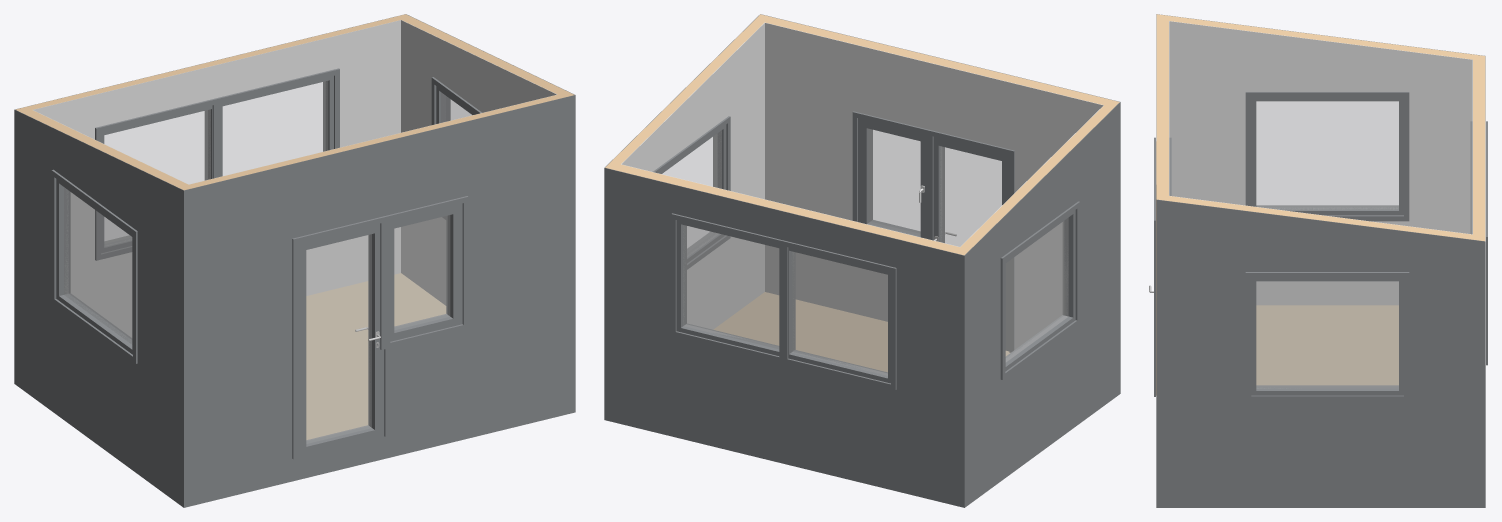
Rendered from andrius@garai.fbx.
The picture shows the model from 3 angles, left to right: view 1: azimuth 30°, elevation 25°; view 2: azimuth 150°, elevation 25°; view 3: azimuth 270°, elevation 25°; orthographic projection. The views are drawn at different scales.
Visible parts, largest first — view 1: IfcWall/Part:2319977, IfcWall/Part:2368366, IfcWall/Part:2397154, IfcDoor/Durys išorinės:900x2100x120 (kairinės):2439432, IfcWindow/Langai (Akrusta):1400x1200x120:2636080, IfcWindow/Langai (Akrusta):800x1200x120 (kairinis):2512981, IfcWall/Part:2397151, IfcSlab/Part:2319985, IfcWindow/Langai (Akrusta):1200x1200x120:2636265, IfcWindow/Langai (Akrusta):1200x1200x120:2636209, IfcWall/Part:2397156, IfcWall/Part:2319978 (+3 smaller); view 2: IfcWall/Part:2397155, IfcWall/Part:2319976, IfcWall/Part:2368366, IfcWall/Part:2397151, IfcWindow/Langai (Akrusta):1200x1200x120:2636209, IfcWindow/Langai (Akrusta):1200x1200x120:2636265, IfcWindow/Langai (Akrusta):1400x1200x120:2636080, IfcWindow/Langai (Akrusta):800x1200x120 (kairinis):2512981, IfcDoor/Durys išorinės:900x2100x120 (kairinės):2439432, IfcSlab/Part:2319985, IfcWindow/Langai (Akrusta):1400x1200x120:2635830, IfcWall/Part:2397156 (+4 smaller); view 3: IfcWall/Part:2397152, IfcWall/Part:2368365, IfcWindow/Langai (Akrusta):1400x1200x120:2635830, IfcWindow/Langai (Akrusta):1400x1200x120:2636080, IfcSlab/Part:2319985, IfcWall/Part:2397156, IfcWall/Part:2319978, IfcWall/Part:2397153, IfcWall/Part:2368367, IfcDoor/Durys išorinės:900x2100x120 (kairinės):2439432, IfcWindow/Langai (Akrusta):1200x1200x120:2636265, IfcWall/Part:2397155 (+1 smaller).
Part boxes in pixels (x1=…): IfcWall/Part:2319977: x1=183, y1=95, x2=575, y2=507; IfcWall/Part:2368366: x1=14, y1=109, x2=183, y2=507; IfcWall/Part:2397154: x1=33, y1=20, x2=400, y2=337; IfcDoor/Durys išorinės:900x2100x120 (kairinės):2439432: x1=292, y1=215, x2=390, y2=459; IfcWindow/Langai (Akrusta):1400x1200x120:2636080: x1=51, y1=169, x2=137, y2=363; IfcWindow/Langai (Akrusta):800x1200x120 (kairinis):2512981: x1=380, y1=196, x2=468, y2=349; IfcWall/Part:2397151: x1=401, y1=20, x2=556, y2=305; IfcSlab/Part:2319985: x1=306, y1=273, x2=446, y2=439; IfcWindow/Langai (Akrusta):1200x1200x120:2636265: x1=204, y1=68, x2=339, y2=179; IfcWindow/Langai (Akrusta):1200x1200x120:2636209: x1=95, y1=97, x2=222, y2=260; IfcWall/Part:2397156: x1=15, y1=14, x2=411, y2=112; IfcWall/Part:2319978: x1=178, y1=94, x2=563, y2=190; IfcWall/Part:2397155: x1=604, y1=167, x2=964, y2=507; IfcWall/Part:2319976: x1=765, y1=22, x2=1103, y2=349; IfcWall/Part:2368366: x1=964, y1=102, x2=1120, y2=507; IfcWall/Part:2397151: x1=621, y1=22, x2=764, y2=329; IfcWindow/Langai (Akrusta):1200x1200x120:2636209: x1=779, y1=240, x2=896, y2=390; IfcWindow/Langai (Akrusta):1200x1200x120:2636265: x1=671, y1=213, x2=795, y2=361; IfcWindow/Langai (Akrusta):1400x1200x120:2636080: x1=1000, y1=201, x2=1079, y2=379; IfcWindow/Langai (Akrusta):800x1200x120 (kairinis):2512981: x1=852, y1=111, x2=933, y2=240; IfcDoor/Durys išorinės:900x2100x120 (kairinės):2439432: x1=924, y1=129, x2=1014, y2=352; IfcSlab/Part:2319985: x1=713, y1=292, x2=1009, y2=372; IfcWindow/Langai (Akrusta):1400x1200x120:2635830: x1=653, y1=116, x2=730, y2=269; IfcWall/Part:2397156: x1=605, y1=162, x2=969, y2=255; IfcWall/Part:2397152: x1=1156, y1=199, x2=1485, y2=507; IfcWall/Part:2368365: x1=1169, y1=21, x2=1472, y2=305; IfcWindow/Langai (Akrusta):1400x1200x120:2635830: x1=1245, y1=272, x2=1409, y2=401; IfcWindow/Langai (Akrusta):1400x1200x120:2636080: x1=1245, y1=92, x2=1409, y2=221; IfcSlab/Part:2319985: x1=1256, y1=305, x2=1398, y2=385; IfcWall/Part:2397156: x1=1473, y1=54, x2=1485, y2=241; IfcWall/Part:2319978: x1=1156, y1=14, x2=1168, y2=195; IfcWall/Part:2397153: x1=1156, y1=194, x2=1472, y2=239; IfcWall/Part:2368367: x1=1169, y1=16, x2=1472, y2=59; IfcDoor/Durys išorinės:900x2100x120 (kairinės):2439432: x1=1154, y1=137, x2=1171, y2=396; IfcWindow/Langai (Akrusta):1200x1200x120:2636265: x1=1470, y1=177, x2=1487, y2=365; IfcWall/Part:2397155: x1=1485, y1=56, x2=1485, y2=507.
Bounding box in the file's own units: 404 × 310 × 309.
